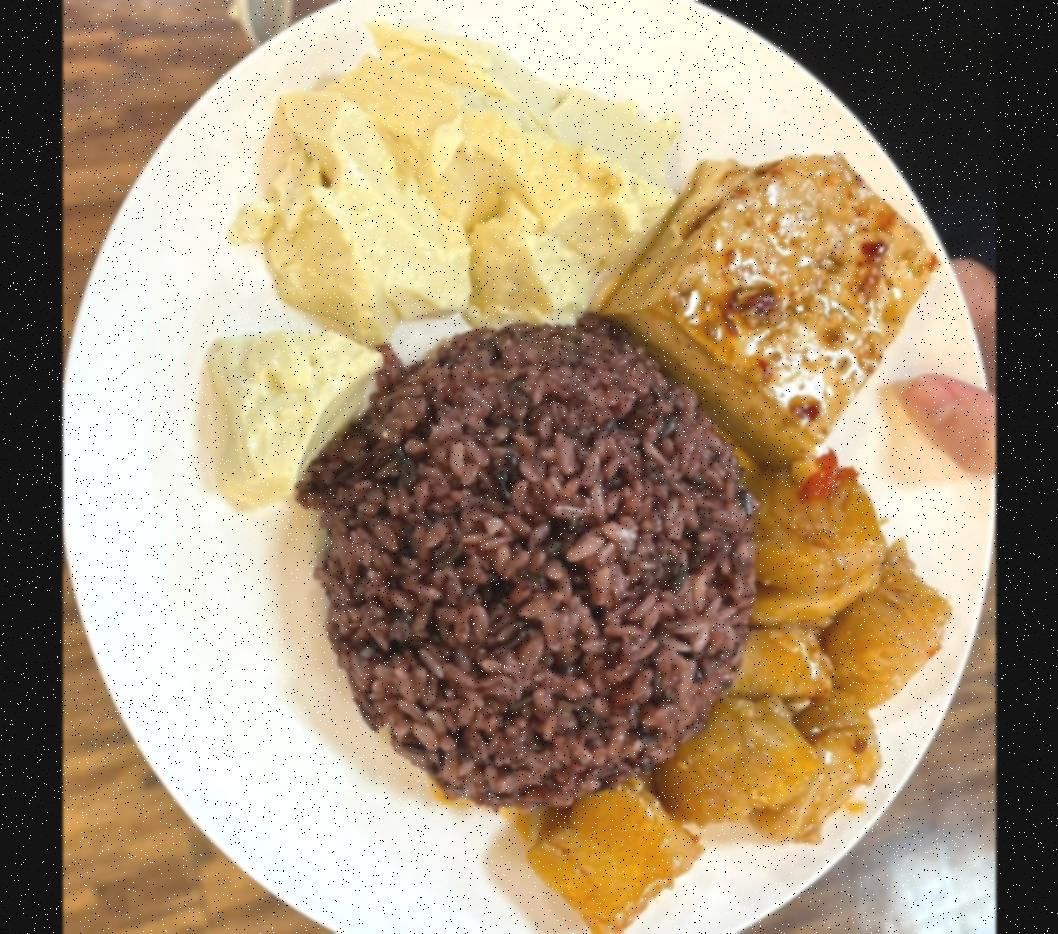big fried chicken leg: (62, 0, 990, 934)
braised fish: (324, 326, 754, 814)
braised fish fillet: (194, 29, 684, 514), (609, 142, 944, 468)
braised pork: (532, 441, 953, 934)
